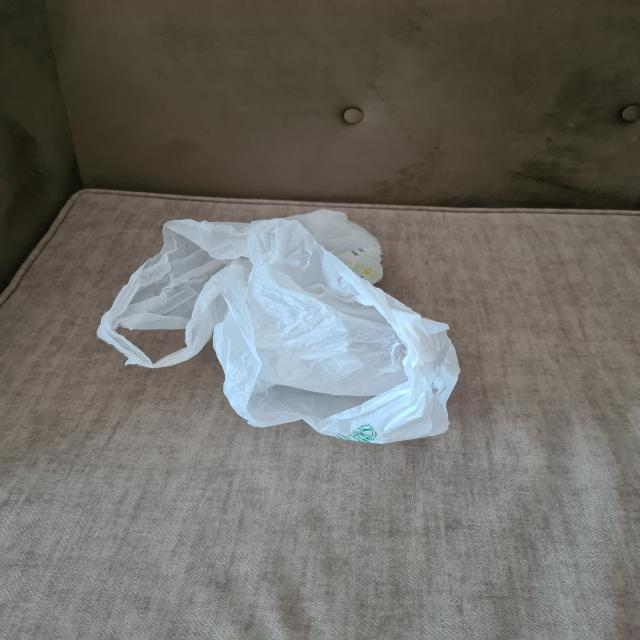plastic: (96, 209, 461, 442)
